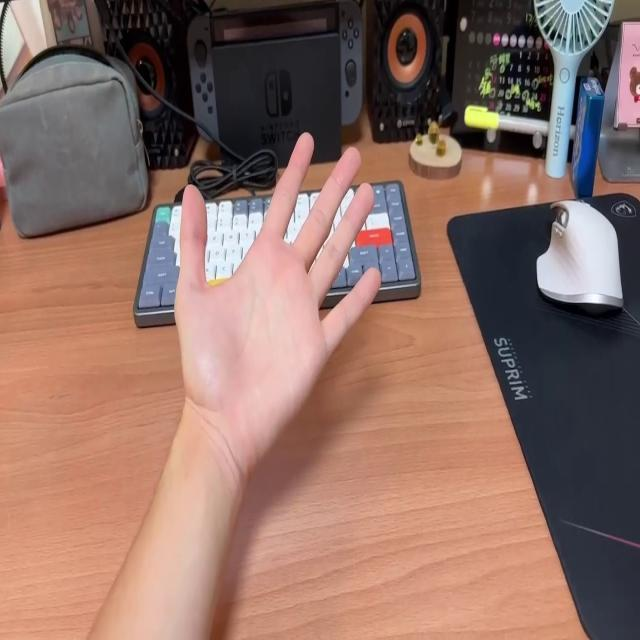keyboard-with-hands: (134, 182, 420, 310)
